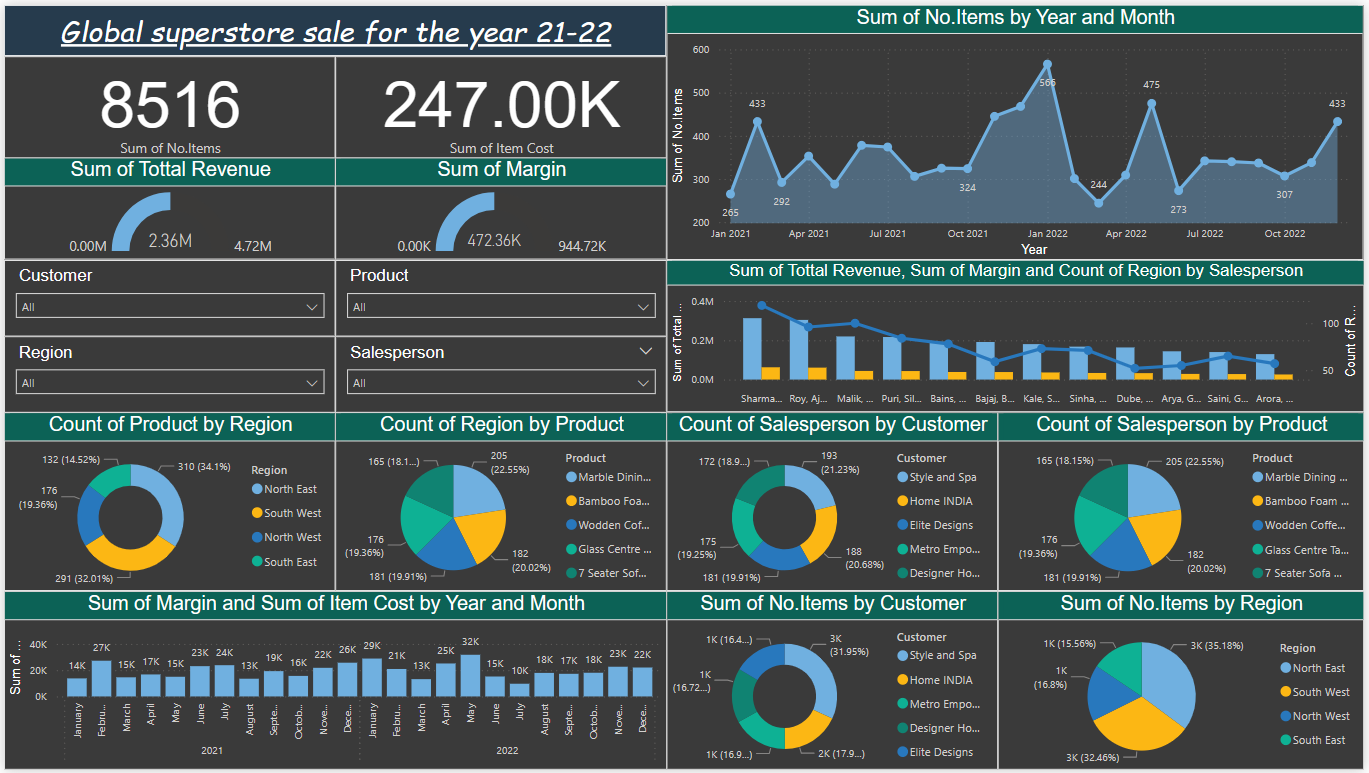

Layout of this report page (visuals, bound fields, positions):
{"tool":"powerbi","page":{"name":"Page 1","canvas":[1280,720],"ordinal":0},"visuals":[{"type":"textbox","box":[0,0,624,72],"z":0},{"type":"clusteredColumnChart","fields":{"Y":["Raw_Data.Margin"],"Category":["Raw_Data.Date.Variation.Date Hierarchy.Year","Raw_Data.Date.Variation.Date Hierarchy.Month"]},"box":[0,552,624,168],"z":1000},{"type":"donutChart","fields":{"Y":["Raw_Data.No.Items"],"Category":["Raw_Data.Customer"]},"box":[624,552,312,168],"z":2000},{"type":"pieChart","fields":{"Category":["Raw_Data.Region"],"Y":["Raw_Data.No.Items"]},"box":[936,552,336,168],"z":3000},{"type":"pieChart","fields":{"Category":["Raw_Data.Product"],"Y":["Raw_Data.Region"]},"box":[312,384,312,168],"z":4000},{"type":"donutChart","fields":{"Category":["Raw_Data.Customer"],"Y":["Raw_Data.Salesperson"]},"box":[624,384,312,168],"z":5000},{"type":"donutChart","fields":{"Y":["Raw_Data.Product"],"Category":["Raw_Data.Region"]},"box":[0,384,312,168],"z":6000},{"type":"pieChart","fields":{"Category":["Raw_Data.Product"],"Y":["Raw_Data.Salesperson"]},"box":[936,384,336,168],"z":7000},{"type":"slicer","fields":{"Values":["Raw_Data.Region"]},"box":[0,312,312,72],"z":8000},{"type":"slicer","fields":{"Values":["Raw_Data.Salesperson"]},"box":[312,312,312,72],"z":9000},{"type":"slicer","fields":{"Values":["Raw_Data.Customer"]},"box":[0,240,312,72],"z":10000},{"type":"slicer","fields":{"Values":["Raw_Data.Product"]},"box":[312,240,312,72],"z":11000},{"type":"lineClusteredColumnComboChart","fields":{"Category":["Raw_Data.Salesperson"],"Y":["Raw_Data.Tottal Revenue","Raw_Data.Margin"],"Y2":["Raw_Data.Region"]},"box":[624,240,648,144],"z":12000},{"type":"gauge","fields":{"Y":["Raw_Data.Tottal Revenue"]},"box":[0,144,312,96],"z":13000},{"type":"gauge","fields":{"Y":["Raw_Data.Margin"]},"box":[312,144,312,96],"z":14000},{"type":"card","fields":{"Values":["Raw_Data.No.Items"]},"box":[0,48,312,96],"z":15000},{"type":"card","fields":{"Values":["Raw_Data.Item Cost"]},"box":[312,48,312,96],"z":16000},{"type":"lineChart","fields":{"Category":["Raw_Data.Date.Variation.Date Hierarchy.Year","Raw_Data.Date.Variation.Date Hierarchy.Month"],"Y":["Raw_Data.No.Items"]},"box":[624,0,656,240],"z":17000}]}

Visuals, with their boxes in screenshot pixels (x1, y1, x2, y2), scaled from the page's 1280x720 canvas onto the 1369x773 screenshot:
textbox: (0, 0, 667, 77)
clusteredColumnChart - Raw_Data.Margin x Raw_Data.Date.Variation.Date Hierarchy.Year: (0, 593, 667, 772)
donutChart - Raw_Data.No.Items x Raw_Data.Customer: (667, 593, 1001, 772)
pieChart - Raw_Data.Region x Raw_Data.No.Items: (1001, 593, 1360, 772)
pieChart - Raw_Data.Product x Raw_Data.Region: (334, 412, 667, 593)
donutChart - Raw_Data.Customer x Raw_Data.Salesperson: (667, 412, 1001, 593)
donutChart - Raw_Data.Product x Raw_Data.Region: (0, 412, 334, 593)
pieChart - Raw_Data.Product x Raw_Data.Salesperson: (1001, 412, 1360, 593)
slicer - Raw_Data.Region: (0, 335, 334, 412)
slicer - Raw_Data.Salesperson: (334, 335, 667, 412)
slicer - Raw_Data.Customer: (0, 258, 334, 335)
slicer - Raw_Data.Product: (334, 258, 667, 335)
lineClusteredColumnComboChart - Raw_Data.Salesperson x Raw_Data.Tottal Revenue: (667, 258, 1360, 412)
gauge - Raw_Data.Tottal Revenue: (0, 155, 334, 258)
gauge - Raw_Data.Margin: (334, 155, 667, 258)
card - Raw_Data.No.Items: (0, 52, 334, 155)
card - Raw_Data.Item Cost: (334, 52, 667, 155)
lineChart - Raw_Data.Date.Variation.Date Hierarchy.Year x Raw_Data.Date.Variation.Date Hierarchy.Month: (667, 0, 1368, 258)
